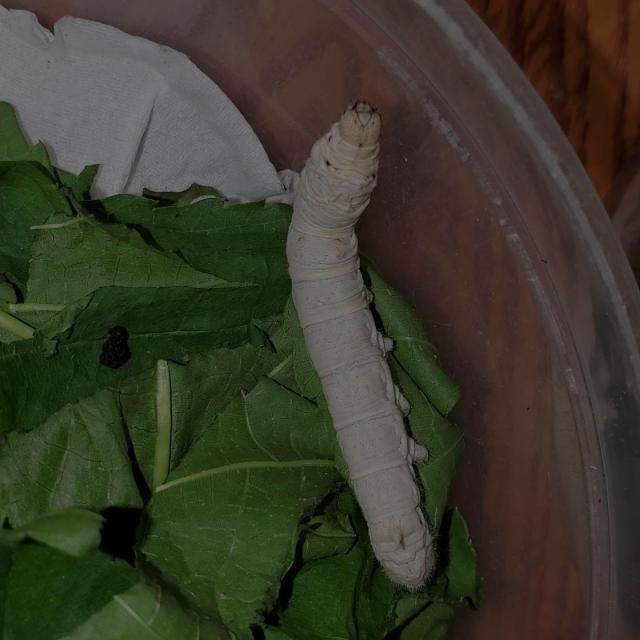Healthy: (270, 76, 492, 600)
